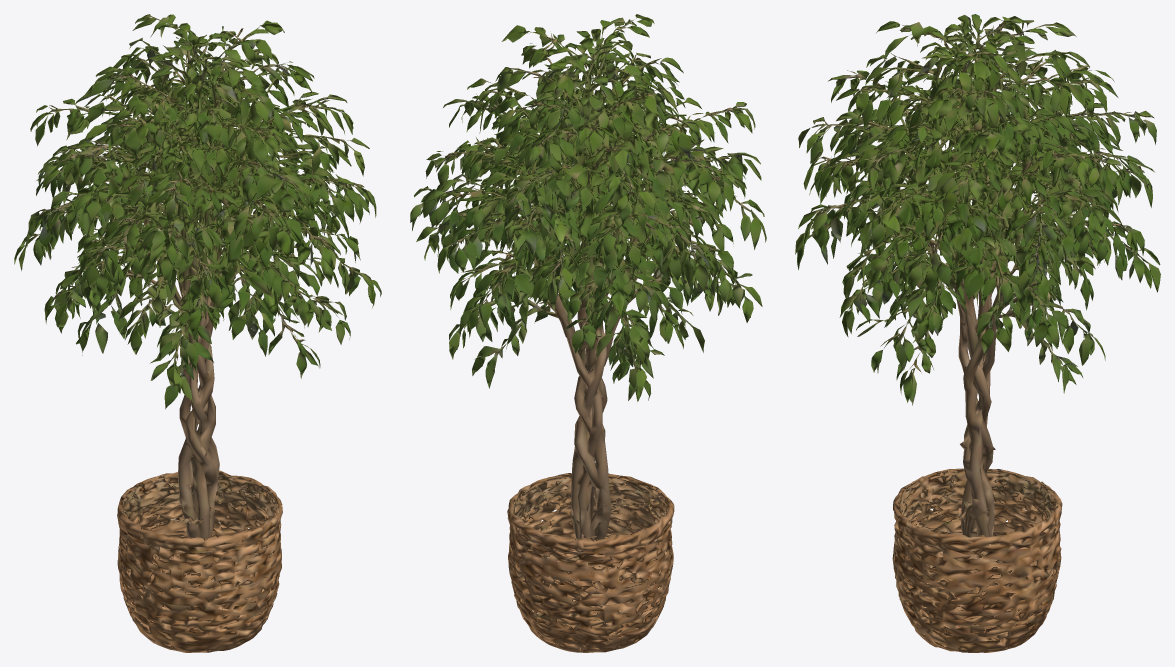
The model's file is ficus.glb.
The picture shows the model from 3 angles, left to right: view 1: azimuth 30°, elevation 25°; view 2: azimuth 150°, elevation 25°; view 3: azimuth 270°, elevation 25°; orthographic projection. The views are drawn at different scales.
Bounding box in the file's own units: 1.06 × 1.9 × 1.04.
